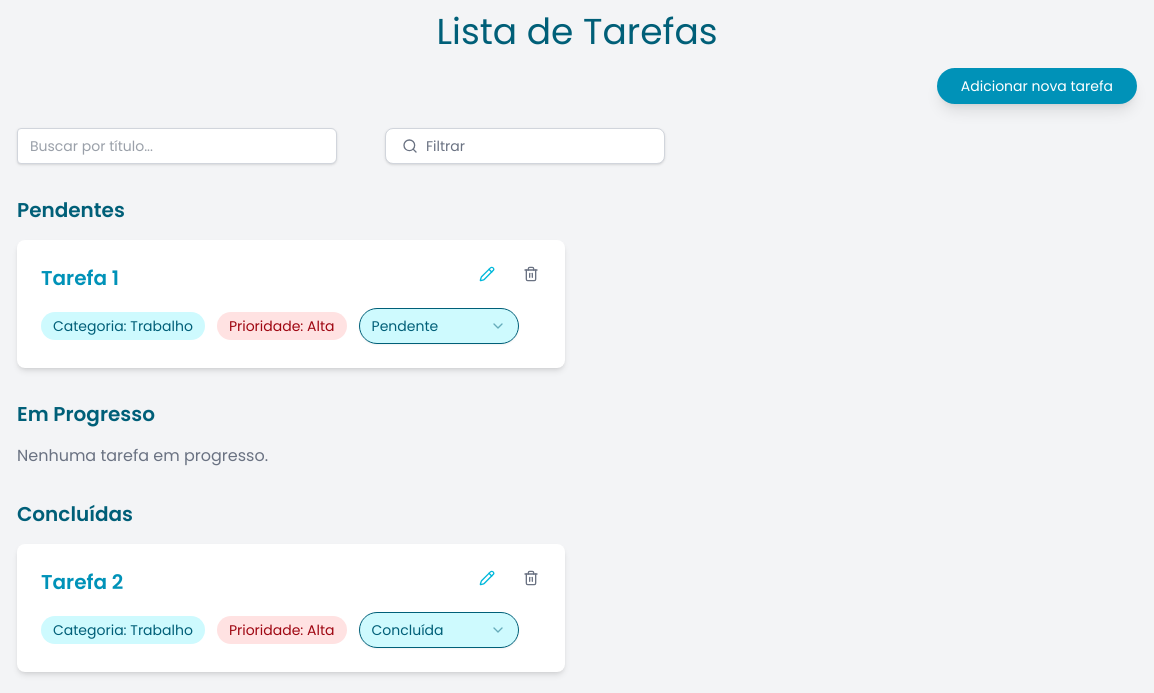
Test case: TaskPage › should allow searching by title
In the field with placeholder "Buscar por título...": (177, 146) [17,128,337,164], type "Tarefa 1"
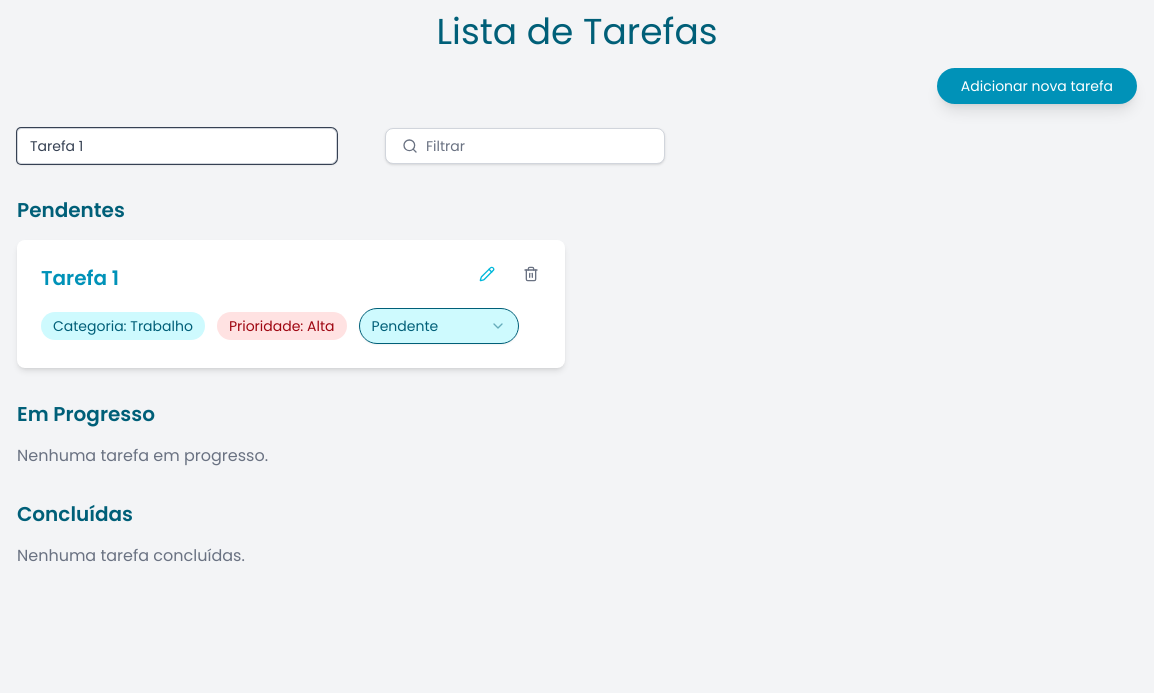
Expected: the heading "Tarefa 1" is shown, [41,264,119,292]
Result: the heading "Tarefa 2" is gone
